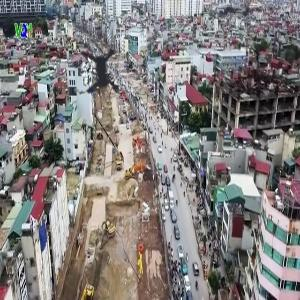drone: (46, 20, 156, 130)
